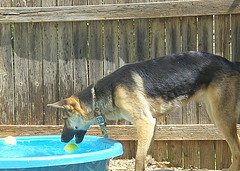tennis ball: (62, 142, 82, 155)
